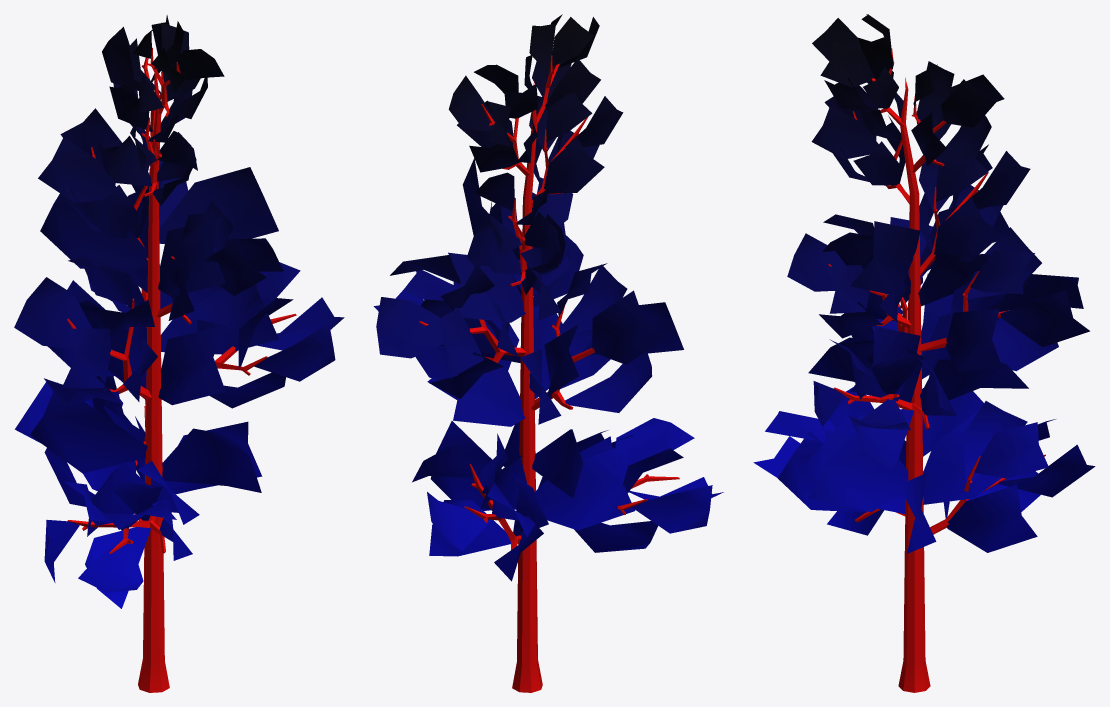
File: SM_Tree_Birch_Dead_01.fbx
3 views of the same model, side by side, from view 1: azimuth 30°, elevation 25°; view 2: azimuth 150°, elevation 25°; view 3: azimuth 270°, elevation 25° (orthographic). The views are drawn at different scales.
Parts seen in each view (by area): view 1: SM_Tree_Birch_Dead_01; view 2: SM_Tree_Birch_Dead_01; view 3: SM_Tree_Birch_Dead_01.
Boxes of the visible parts, x1=… form: SM_Tree_Birch_Dead_01: x1=14, y1=15, x2=344, y2=692; SM_Tree_Birch_Dead_01: x1=373, y1=14, x2=723, y2=692; SM_Tree_Birch_Dead_01: x1=753, y1=14, x2=1095, y2=692.
Size of the model in its own units: 216 by 449 by 210.
